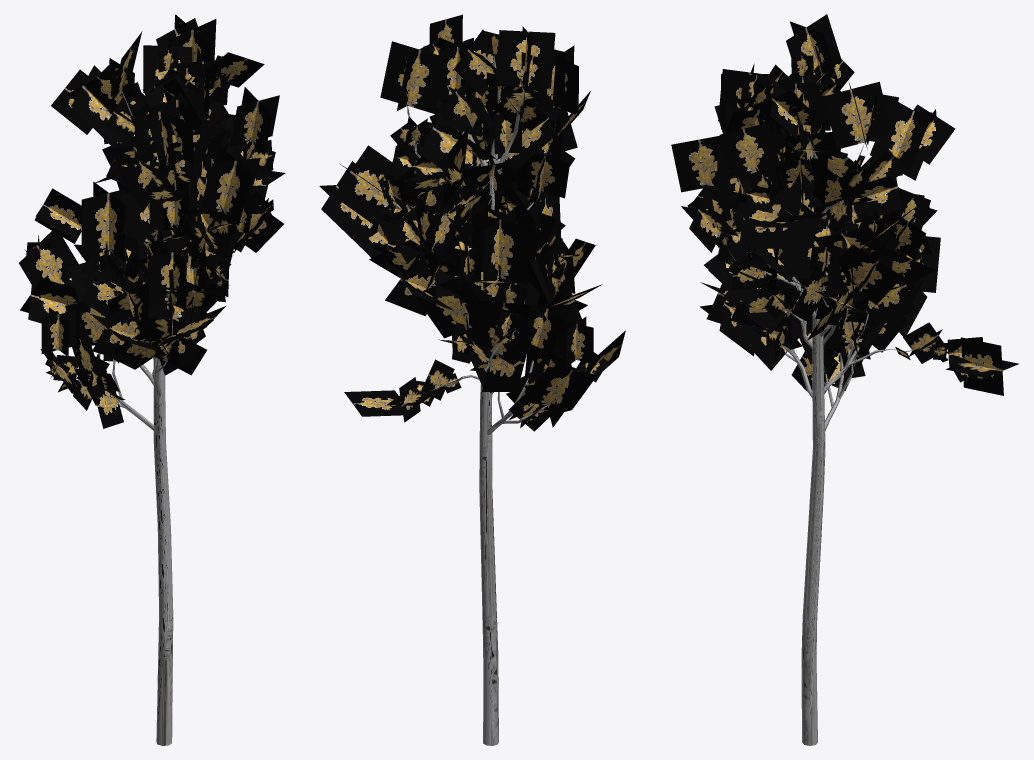
Rendered from street3.glb.
3 views of the same model, side by side, from view 1: azimuth 30°, elevation 25°; view 2: azimuth 150°, elevation 25°; view 3: azimuth 270°, elevation 25° (orthographic). The views are drawn at different scales.
Parts seen in each view (by area): view 1: leaves, bark; view 2: leaves, bark; view 3: leaves, bark.
Part boxes in pixels (x1,y1,x2,y2): leaves: [19, 14, 285, 428]; bark: [71, 70, 233, 745]; leaves: [319, 14, 625, 431]; bark: [396, 55, 560, 745]; leaves: [671, 14, 1018, 395]; bark: [729, 76, 929, 745].
Bounding box in the file's own units: 3.82 × 9.5 × 4.26.
2 materials, 2 textured.
